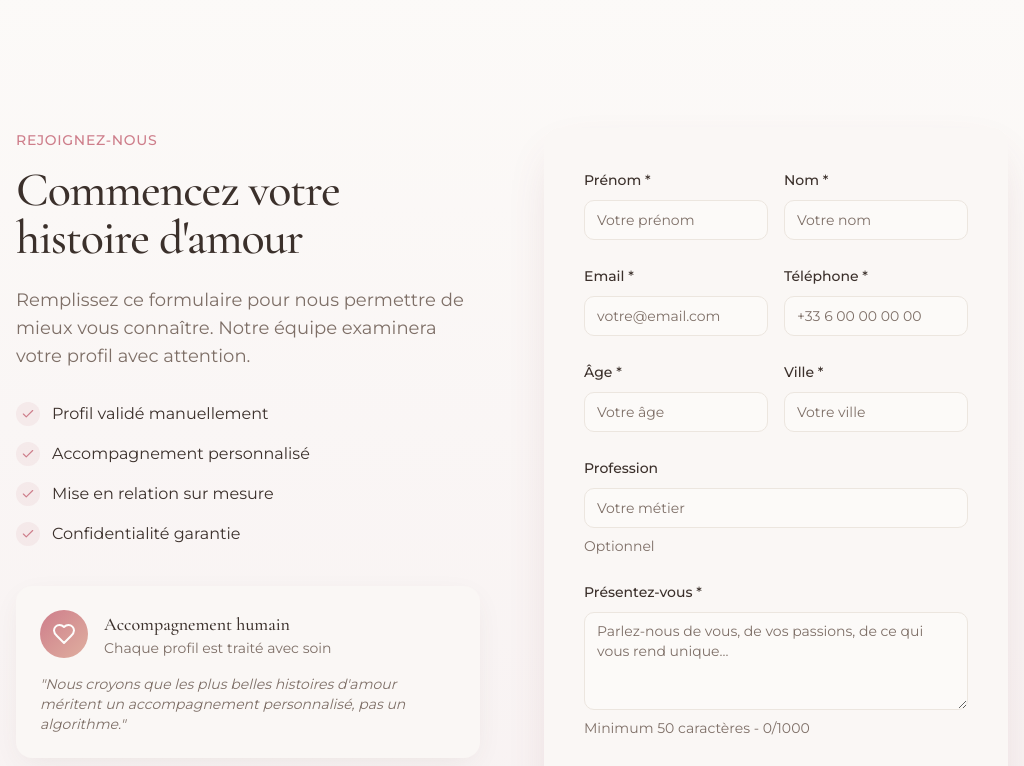
RegistrationSection › devrait compter les caractères de la présentation
This screenshot has width=1024, height=766.
In the text box labelled "Présentez-vous *": (776, 661) [584,612,968,710], type "Test"
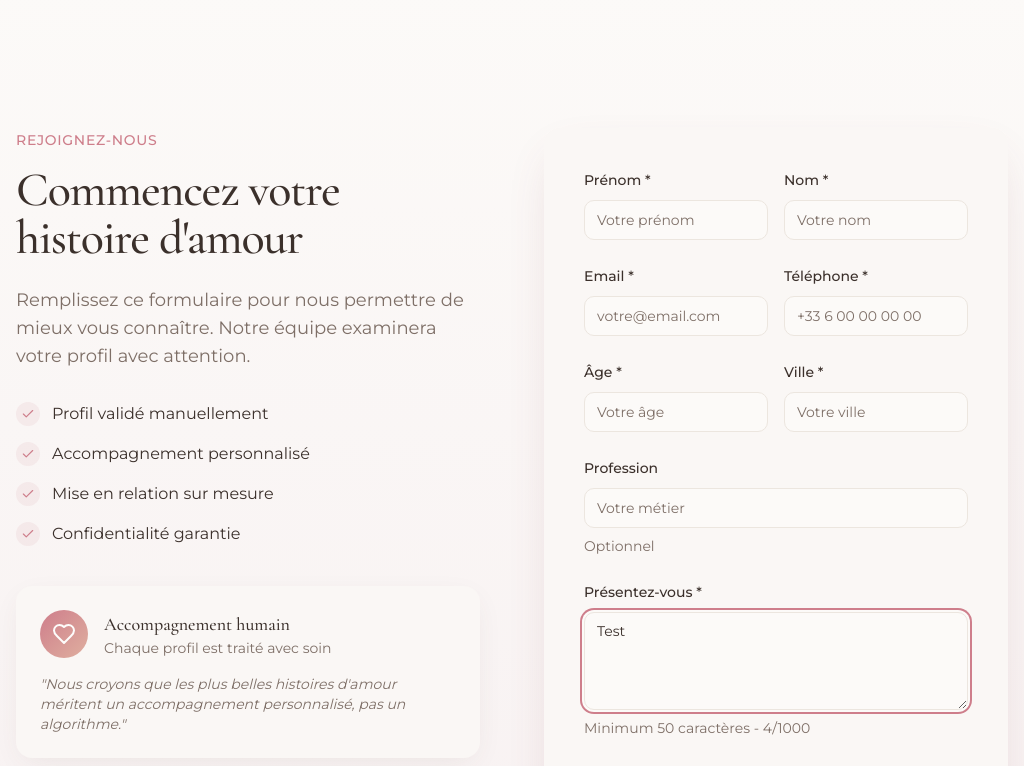
Now the text "Minimum 50 caractères - 4/1000" is shown, box [584,719,810,737]
